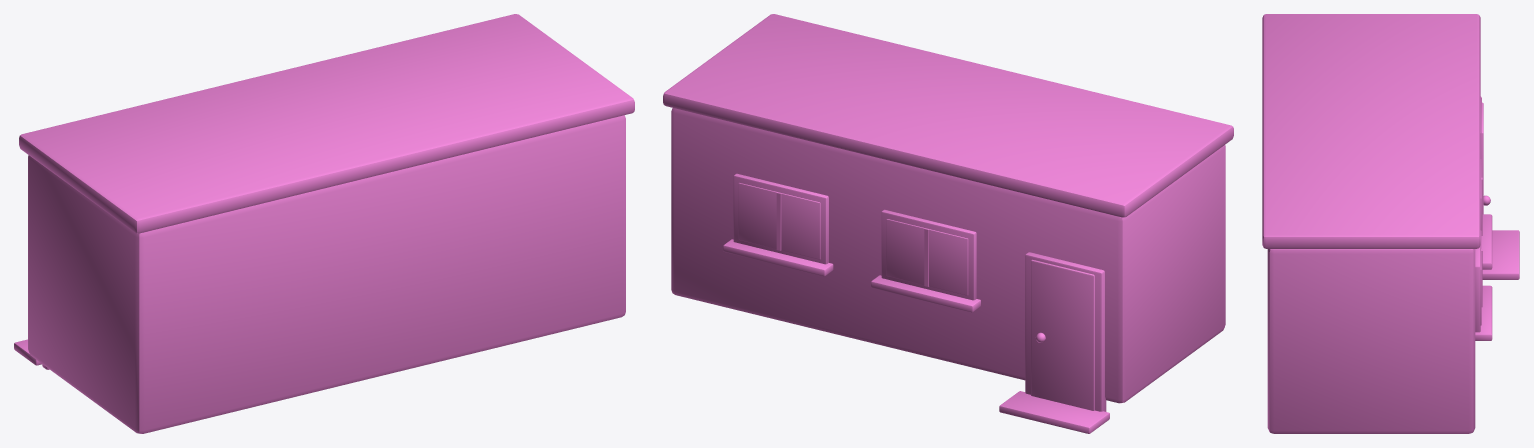
File: Site_Portacabin.fbx
3 renders of one model, left to right at view 1: azimuth 30°, elevation 25°; view 2: azimuth 150°, elevation 25°; view 3: azimuth 270°, elevation 25°, orthographic. The views are drawn at different scales.
Visible parts, largest first — view 1: Paint, Body; view 2: Body, Paint; view 3: Body, Paint.
Part boxes in pixels (x1,y1,x2,y2): Paint: (28, 115, 625, 433); Body: (14, 14, 634, 369); Body: (663, 14, 1233, 433); Paint: (671, 108, 1225, 403); Body: (1262, 14, 1519, 340); Paint: (1267, 249, 1475, 433).
Size of the model in its own units: 20.4 by 9.35 by 9.9.
1 material, 1 textured.
